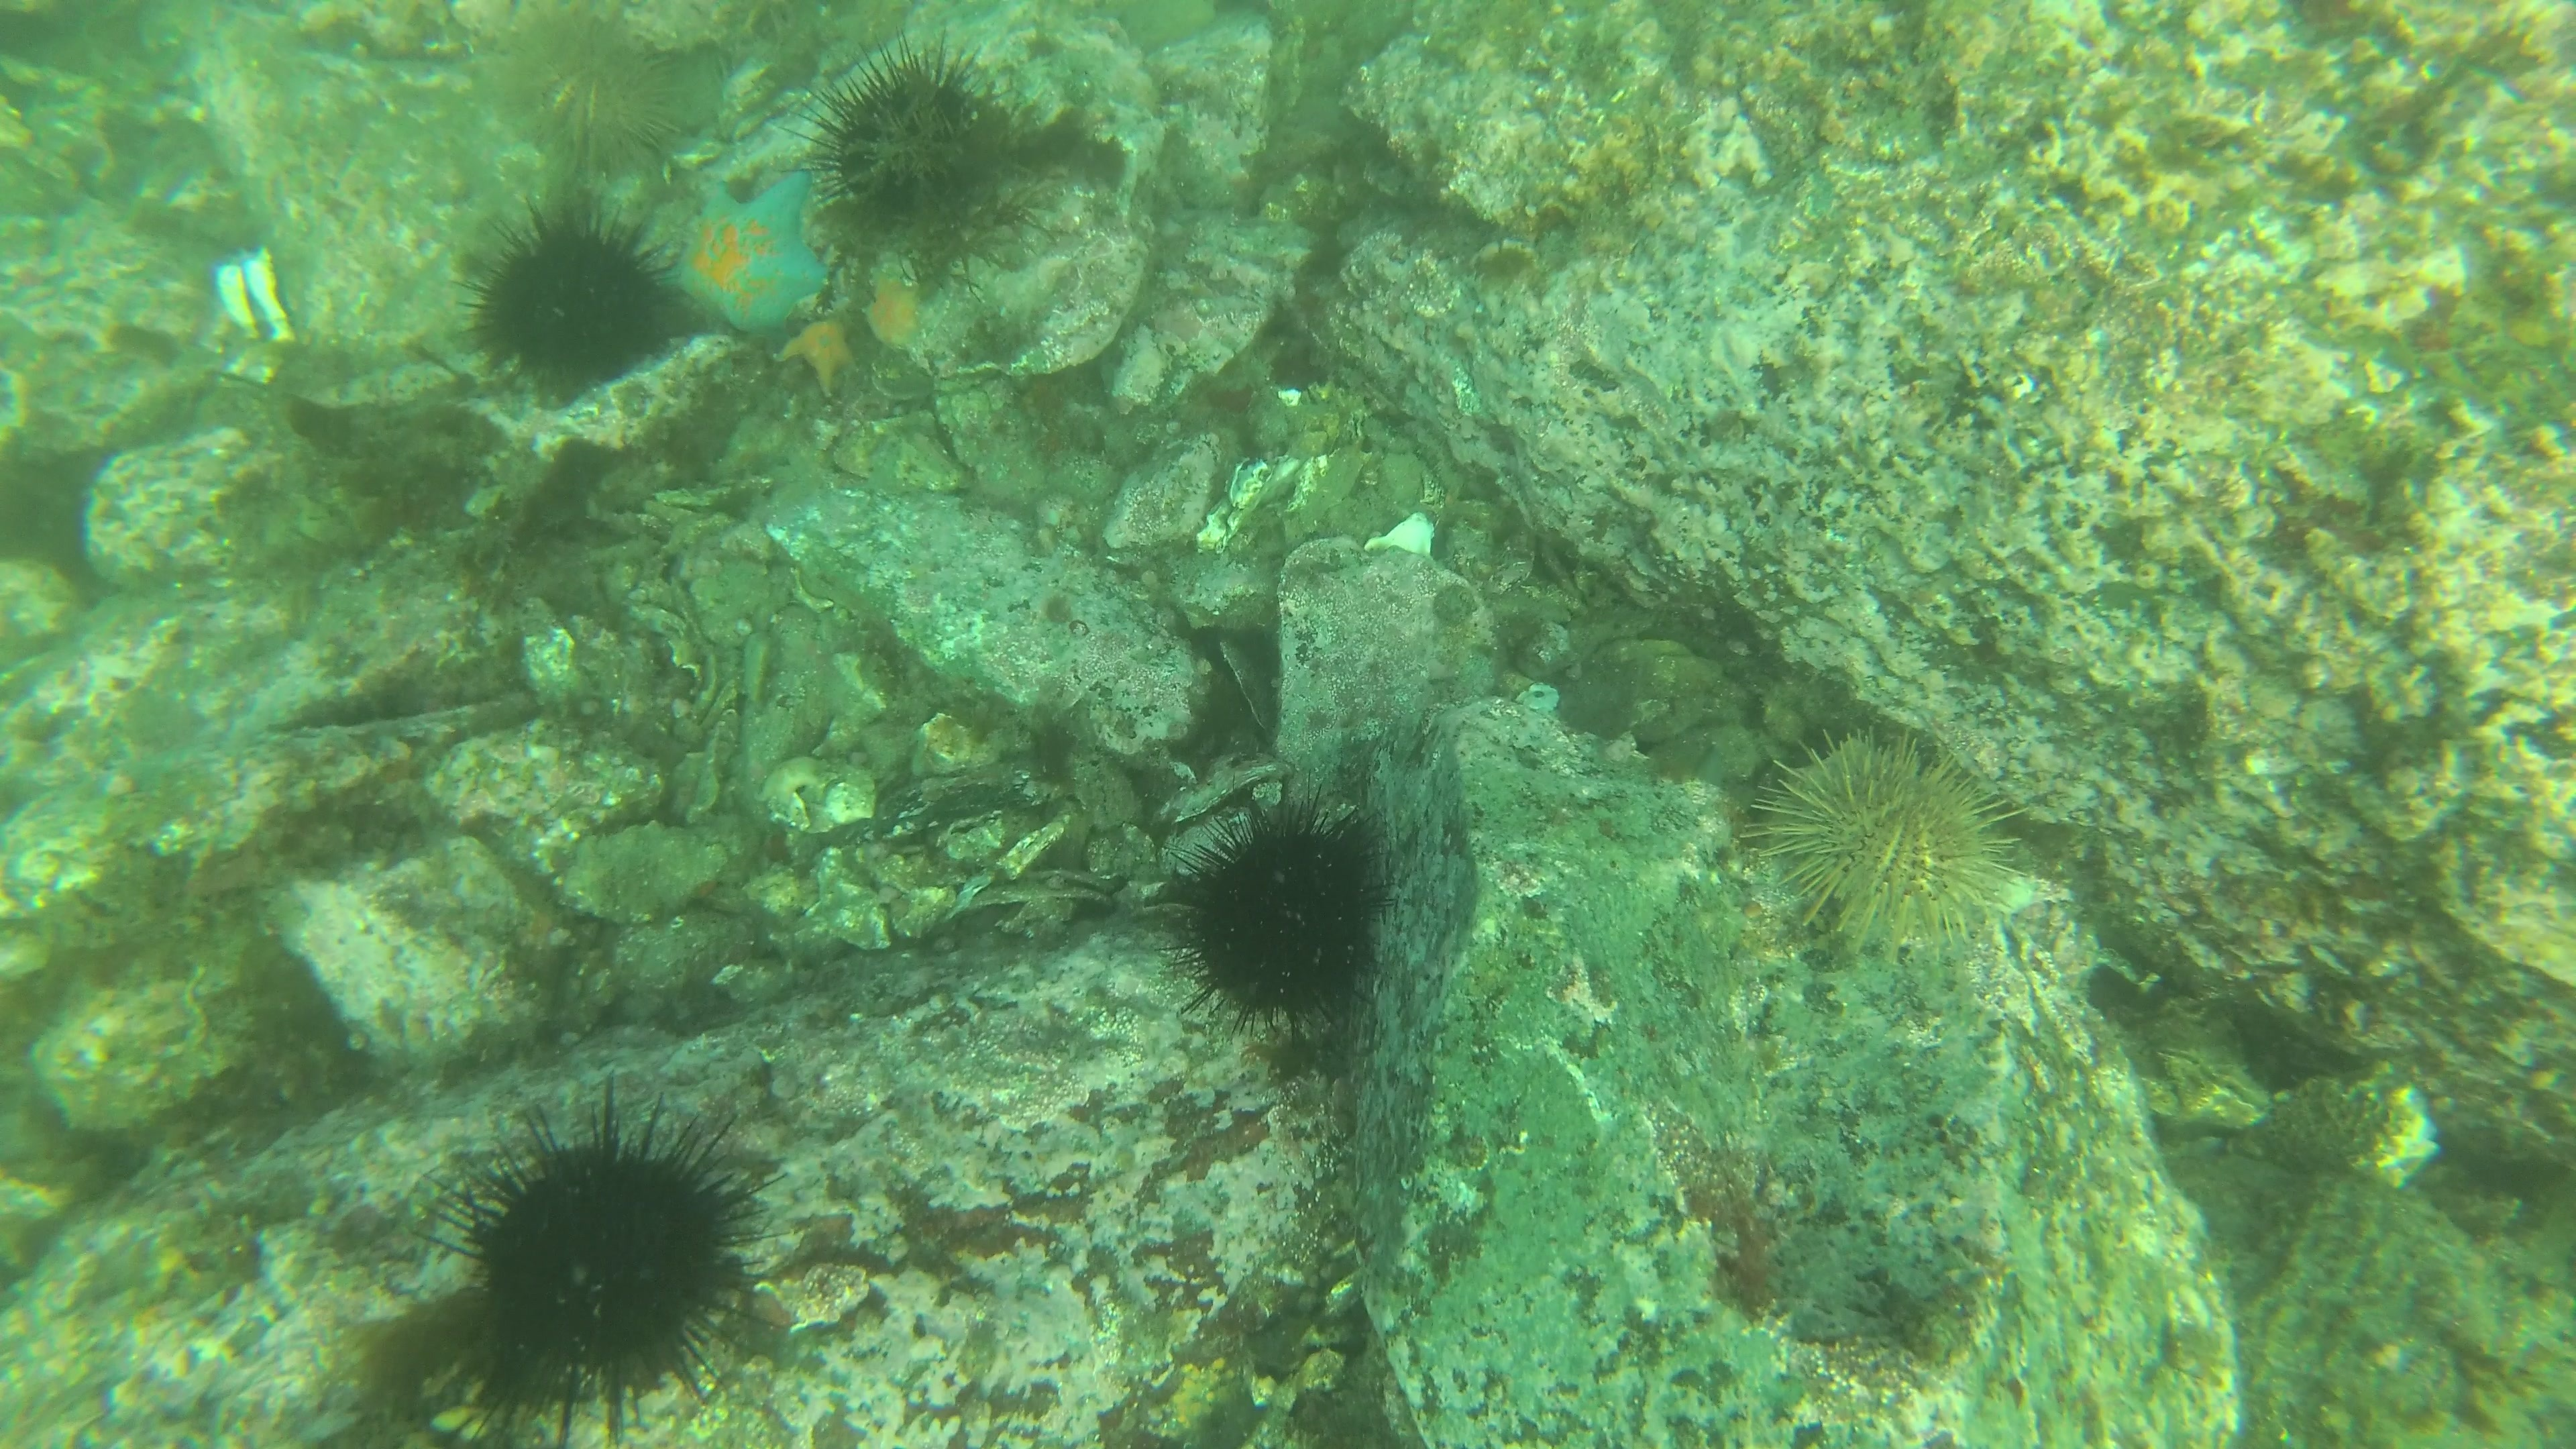echinus: (428, 1090, 787, 1428), (1755, 718, 2035, 954), (1164, 793, 1391, 1049), (801, 32, 1010, 241), (455, 205, 667, 395), (499, 16, 681, 180)
starfish: (653, 166, 830, 340), (777, 315, 853, 396), (853, 274, 931, 352)
